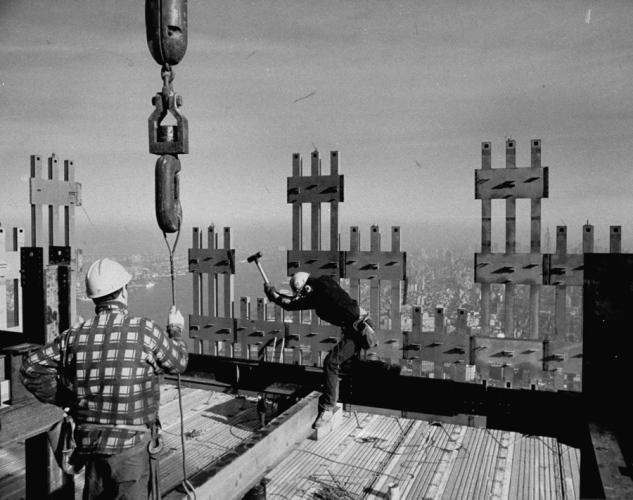helmet: (86, 259, 134, 301), (290, 272, 311, 296)
